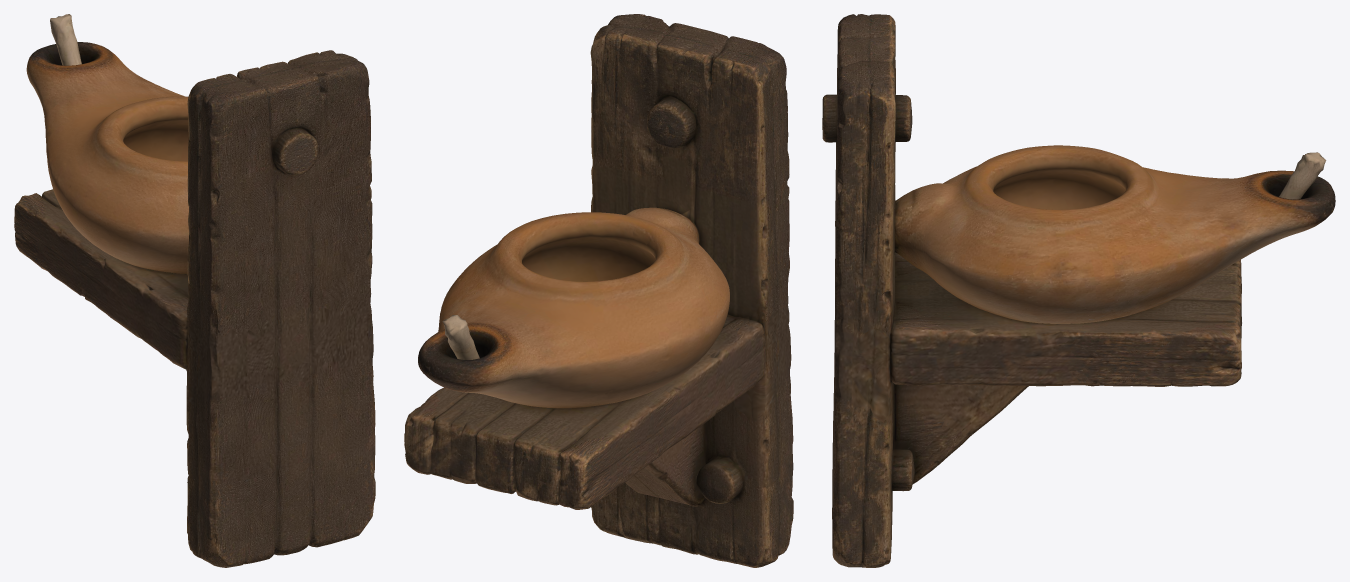
3 views of the same model, side by side, from view 1: azimuth 30°, elevation 25°; view 2: azimuth 150°, elevation 25°; view 3: azimuth 270°, elevation 25° (orthographic). The views are drawn at different scales.
Visible parts, largest first — view 1: tripo_node_b1295630-d22f-4346-92bf-53ba686c0d2a; view 2: tripo_node_b1295630-d22f-4346-92bf-53ba686c0d2a; view 3: tripo_node_b1295630-d22f-4346-92bf-53ba686c0d2a.
Part boxes in pixels (x1,y1,x2,y2): tripo_node_b1295630-d22f-4346-92bf-53ba686c0d2a: [14, 14, 375, 567]; tripo_node_b1295630-d22f-4346-92bf-53ba686c0d2a: [404, 14, 793, 567]; tripo_node_b1295630-d22f-4346-92bf-53ba686c0d2a: [822, 14, 1335, 567].
Size of the model in its own units: 0.4909 by 1 by 0.9622.
1 material, 1 textured.
